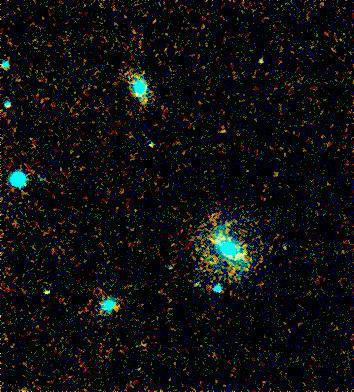star: (247, 47, 277, 77)
